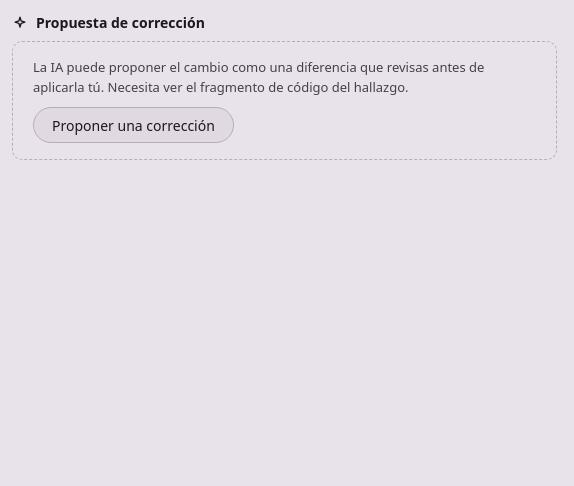
Test: Propuesta de corrección › si la privacidad ya permite enviar el fragmento, no pregunta
The width and height of the screenshot is (574, 486).
Click the button "Proponer una corrección".
click(133, 125)  # box [33,107,234,143]
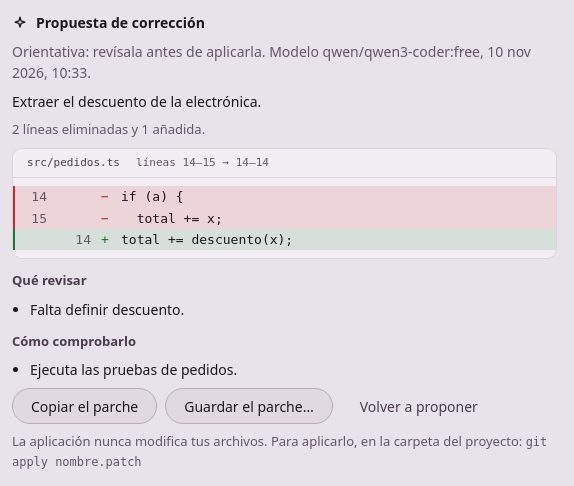
expect the text "Extraer el descuento de la electrónica." is shown: met, box [12,92,261,111]
